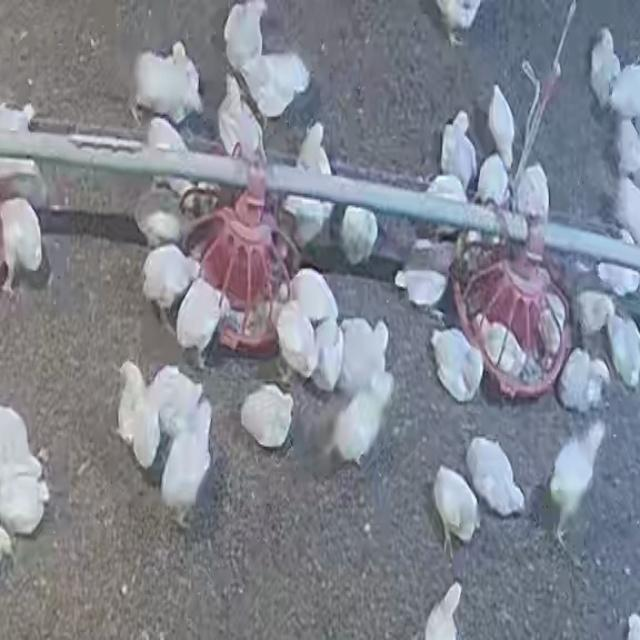chicken: (547, 420, 607, 544), (160, 397, 214, 524), (133, 41, 205, 128), (332, 374, 395, 469), (114, 359, 162, 473), (174, 276, 232, 365), (466, 435, 526, 519), (240, 52, 310, 121), (145, 115, 199, 199), (336, 317, 390, 398), (0, 195, 44, 292), (217, 76, 266, 163), (430, 327, 486, 402), (236, 382, 299, 448), (430, 467, 480, 550), (144, 364, 205, 432), (140, 242, 198, 312), (275, 301, 321, 380), (132, 186, 188, 250), (555, 349, 609, 412), (288, 267, 342, 327), (223, 0, 267, 71), (439, 110, 478, 190), (481, 321, 531, 379), (421, 175, 470, 234), (605, 312, 640, 391), (487, 84, 516, 170), (310, 319, 344, 391), (339, 206, 379, 266), (514, 162, 551, 224), (590, 28, 619, 104), (396, 268, 448, 310), (297, 122, 333, 179), (574, 290, 615, 338), (476, 154, 510, 207), (595, 260, 639, 298)
